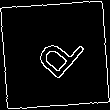P_SW: (25, 24, 85, 86)
